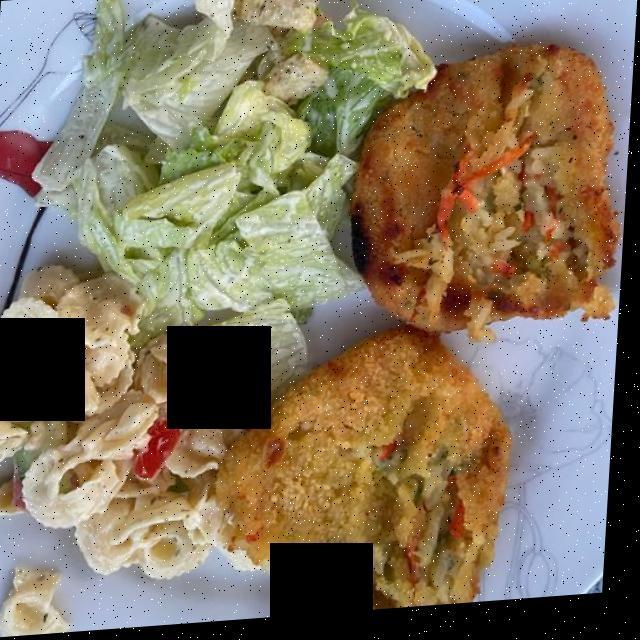salad: (28, 0, 427, 418), (161, 125, 334, 326)
